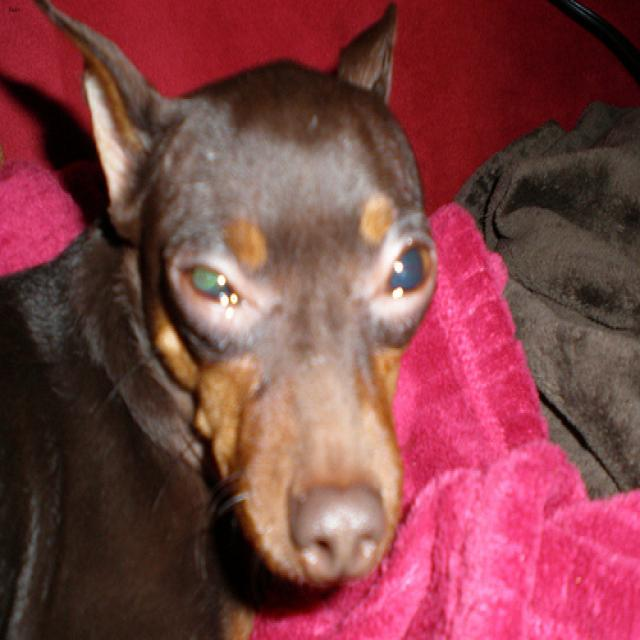dog-miniature_pinscher: (1, 2, 445, 637)
